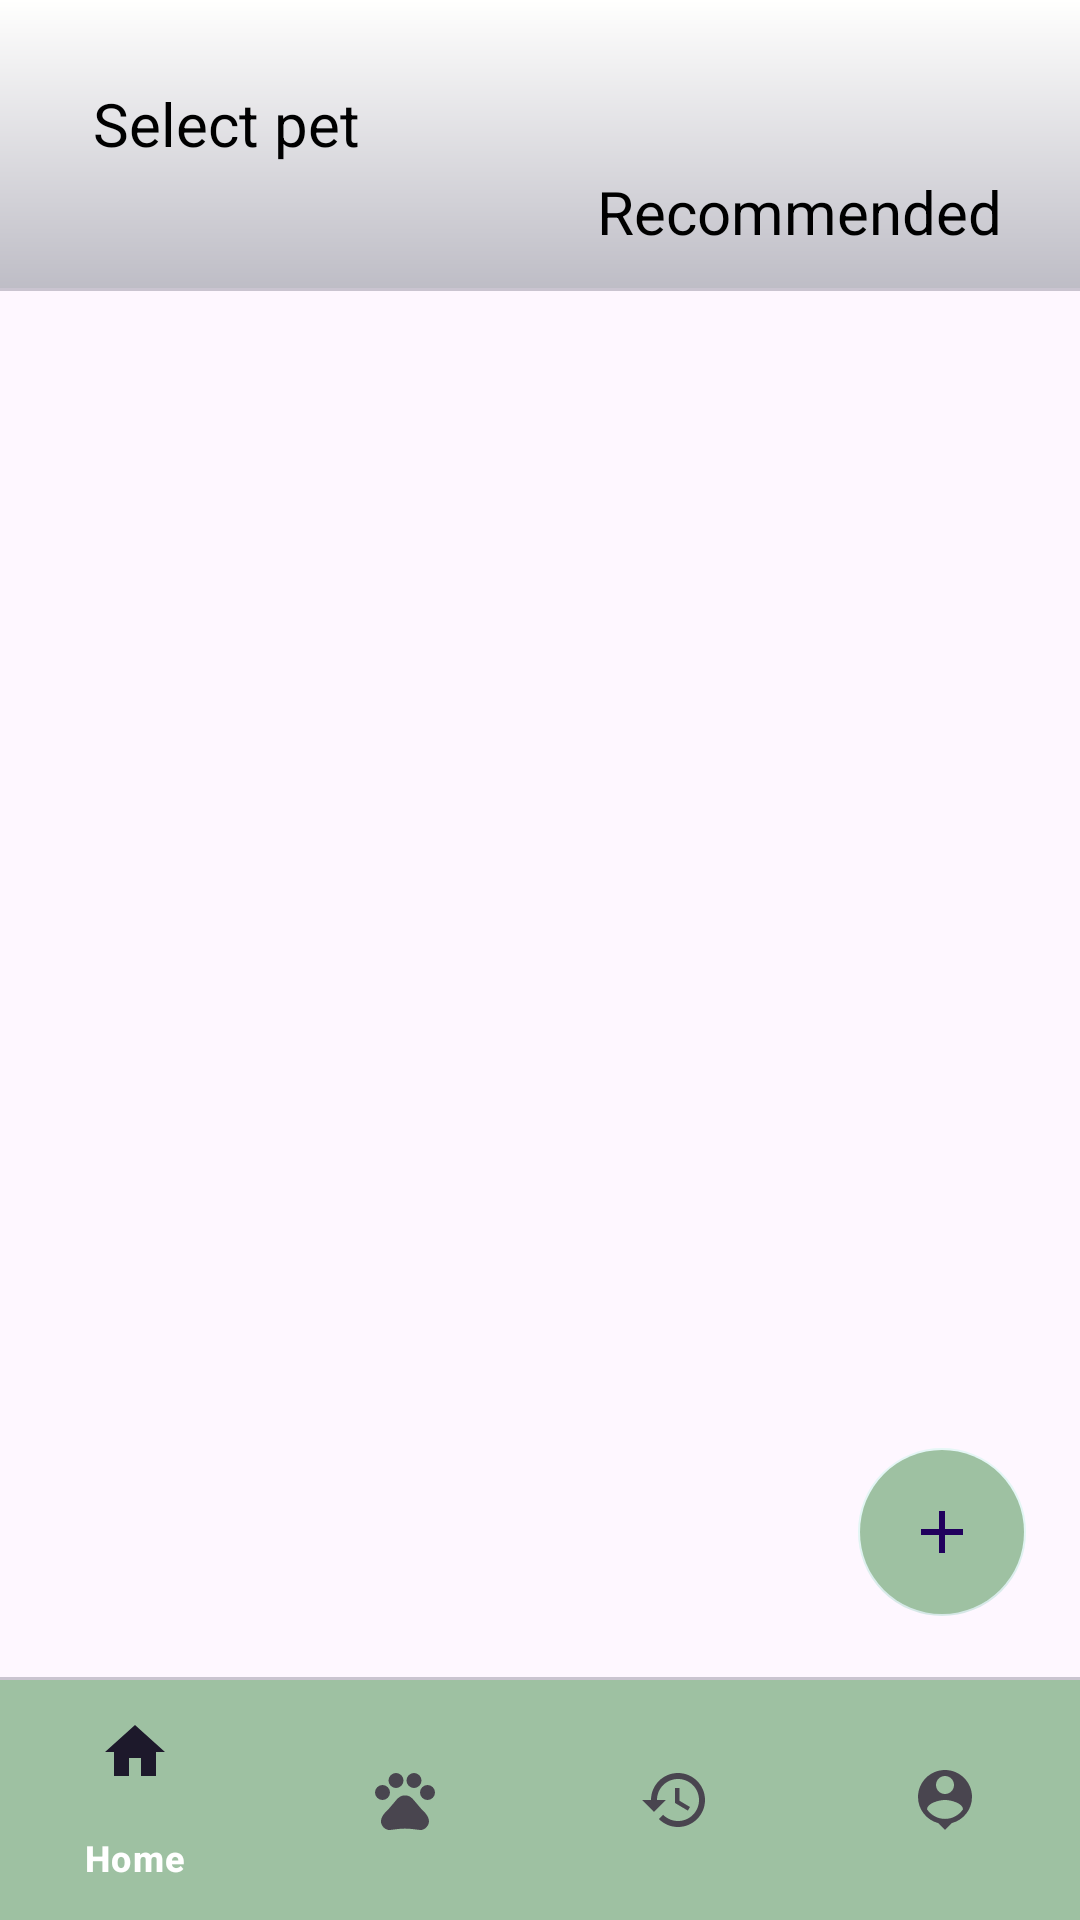

Icons on this 1080 x 1920 Android screen, each with the point to tap as point (x, y):
add: point (942, 1533)
